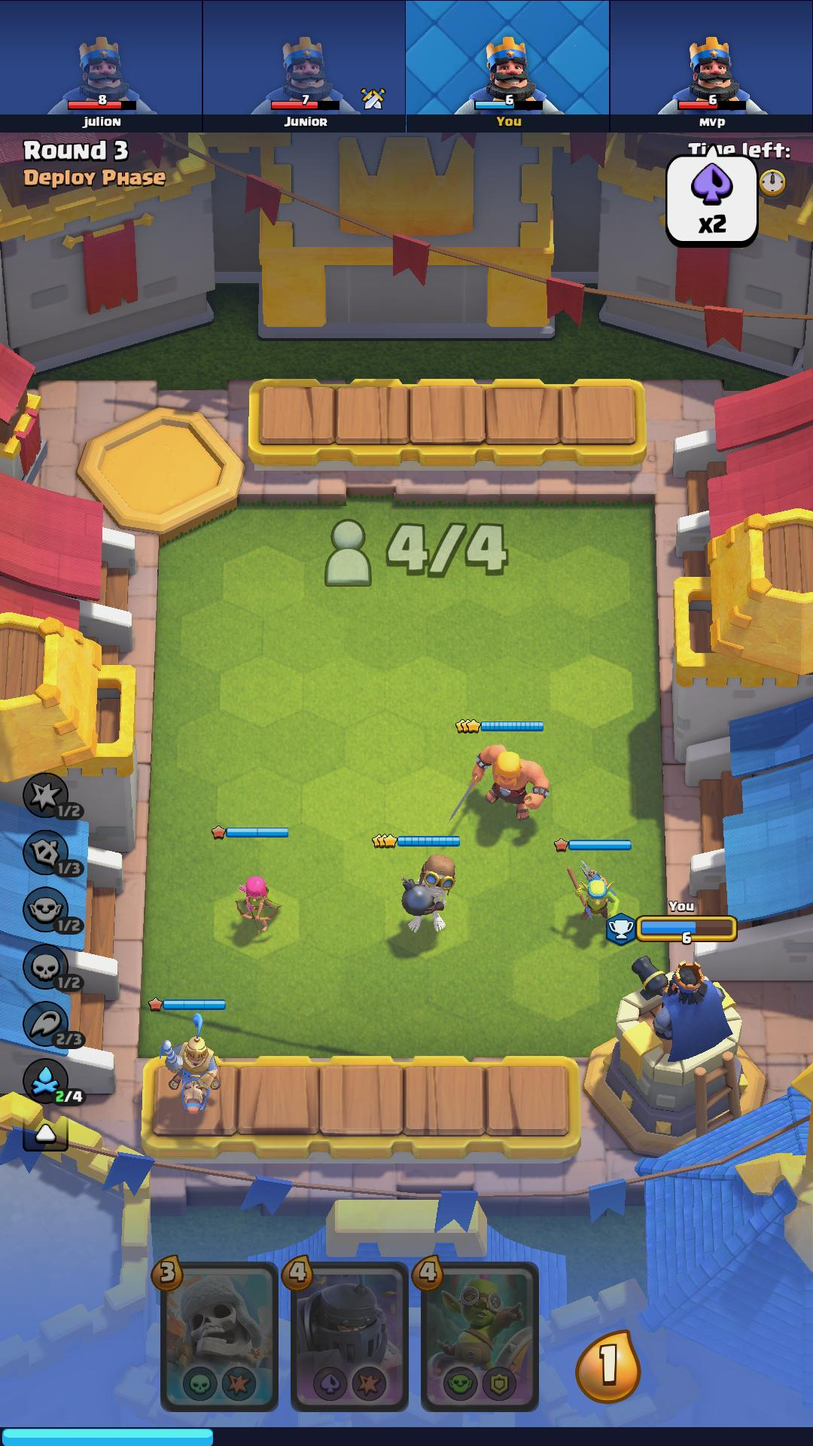archer: (226, 871, 289, 941)
barbarian: (446, 738, 561, 828)
bomber: (393, 849, 456, 937)
hand-giant: (163, 1264, 275, 1406)
hand-machine: (423, 1266, 537, 1408)
hand-mega: (291, 1264, 405, 1407)
prince: (147, 1011, 236, 1116)
spear: (559, 858, 626, 928)
